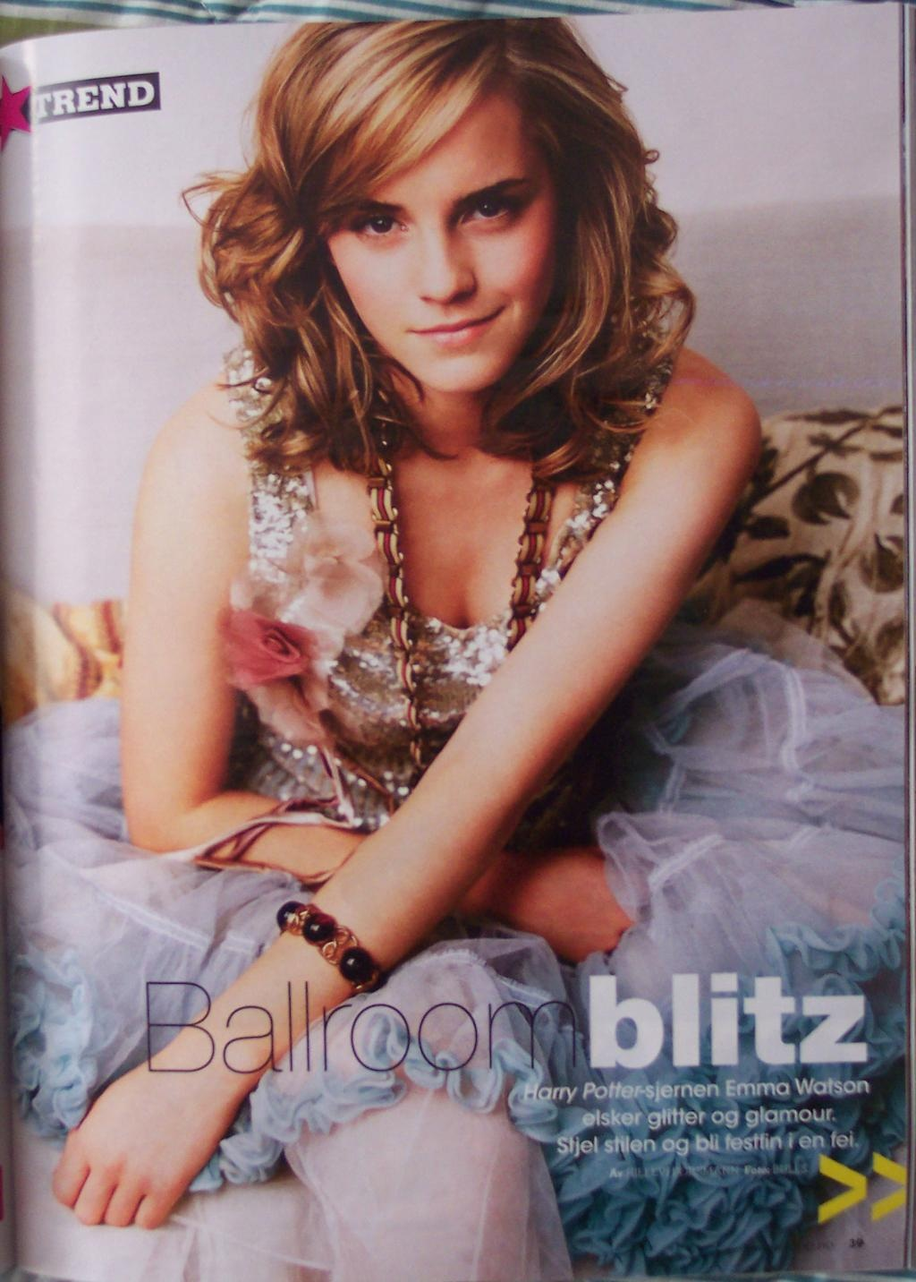human_face: (322, 87, 558, 391)
